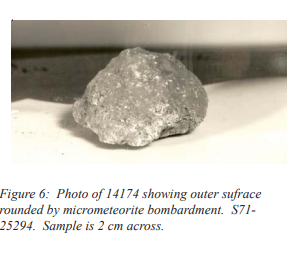Breccia: (62, 35, 231, 158)
